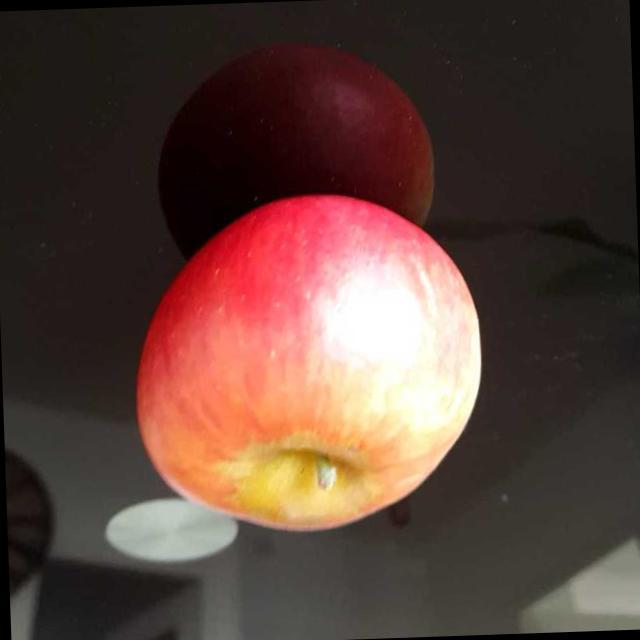Apple: (120, 181, 489, 549)
